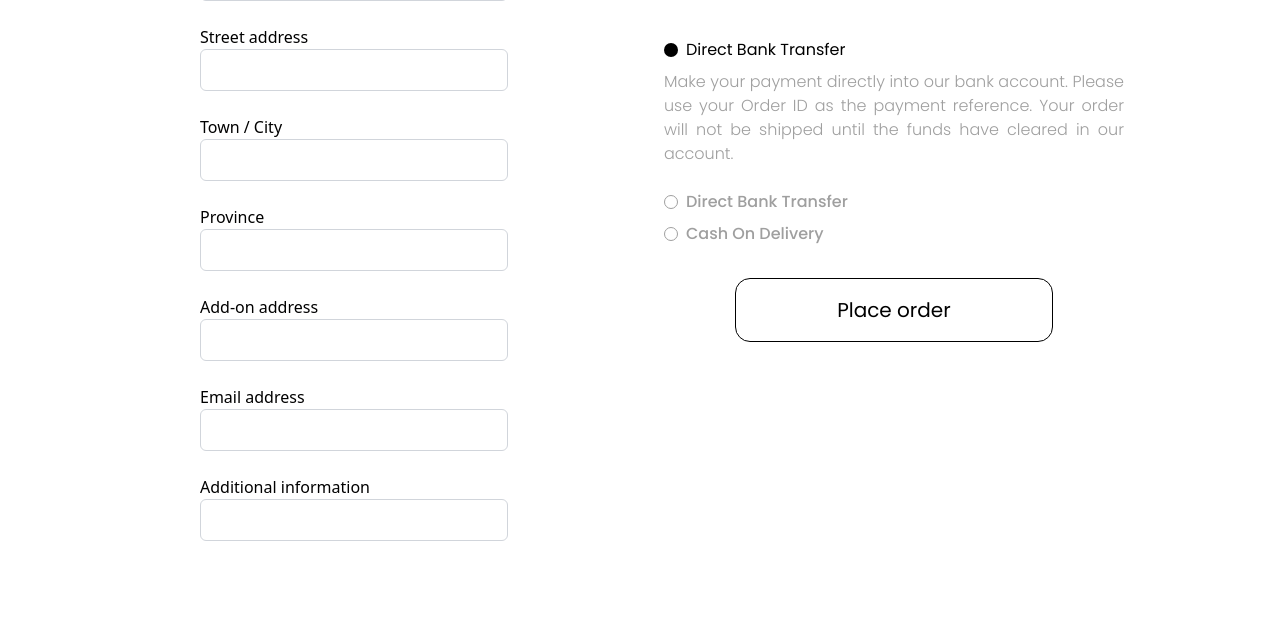
Scenario: Checkout component › should show validation errors on submit with empty fields
(page scrolled)
Click the button "Place order" at point(894, 310), box left=735, top=278, right=1053, bottom=342
(page scrolled)
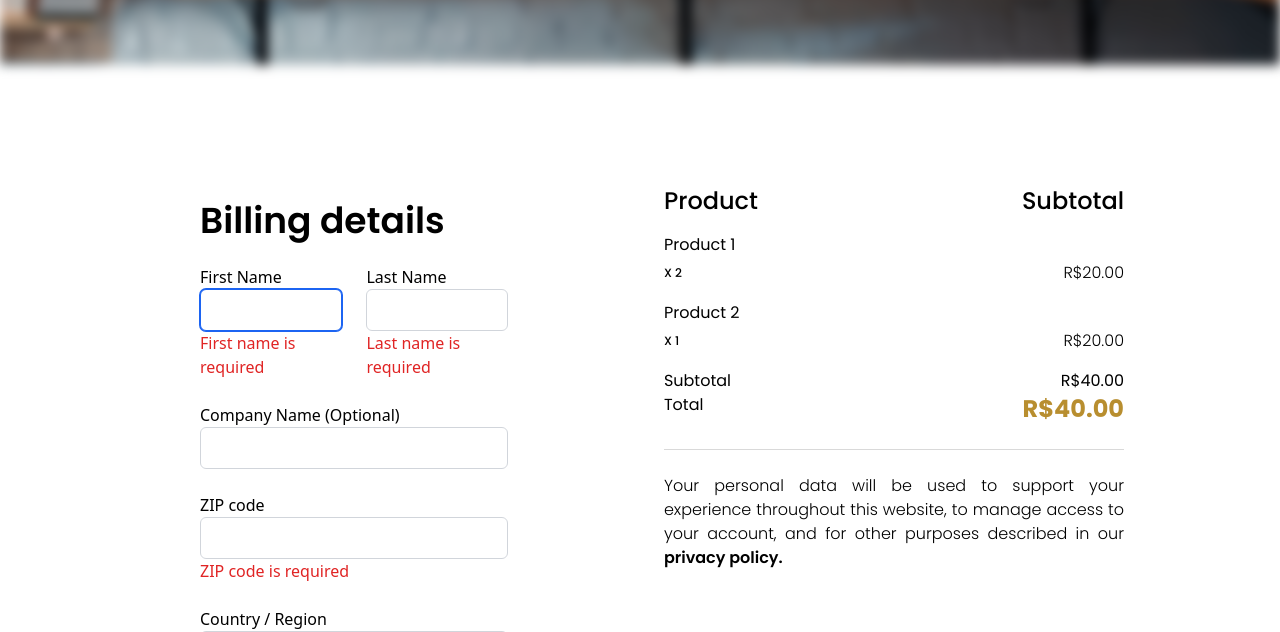
Expected: the text "First name is required" is shown, left=200, top=332, right=296, bottom=378
Expected: the text "Last name is required" is shown, left=366, top=332, right=460, bottom=378
